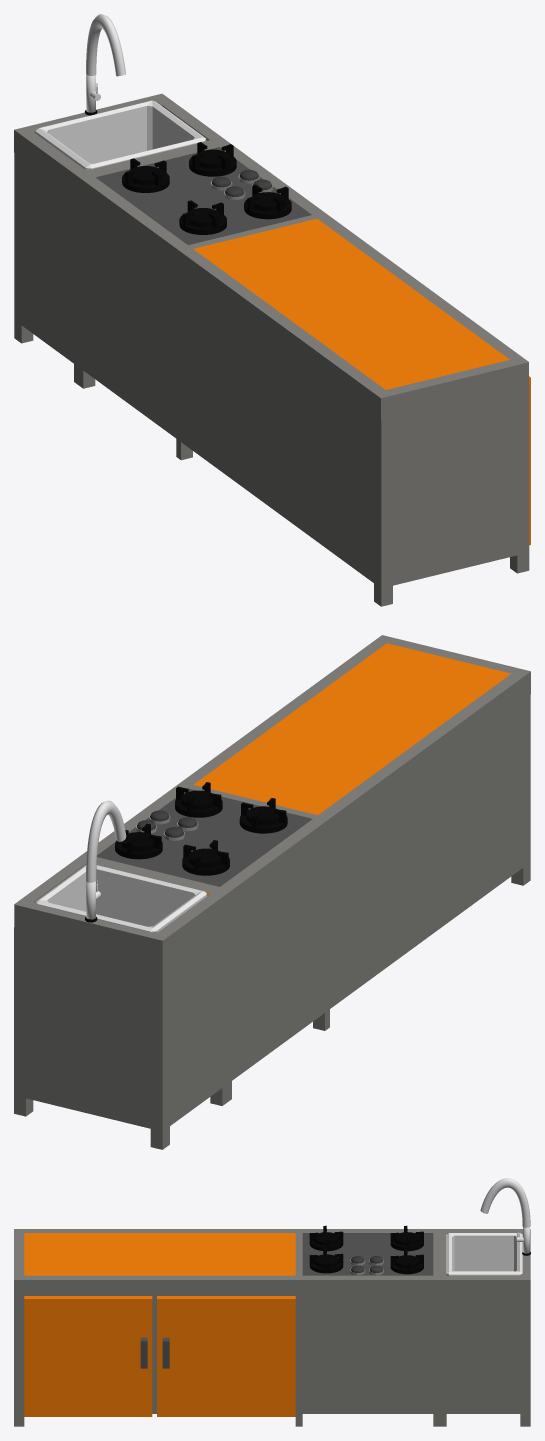
File: meja masak.fbx
3 renders of one model, top to bottom at view 1: azimuth 30°, elevation 25°; view 2: azimuth 150°, elevation 25°; view 3: azimuth 270°, elevation 25°, orthographic. The views are drawn at different scales.
Parts seen in each view (by area): view 1: gagang keran, wastafel, kompor 3, saluran air; view 2: gagang keran, wastafel, kompor 3, saluran air; view 3: gagang keran, wastafel, kompor 3, saluran air.
Boxes of the visible parts, x1,y1,x2,y2 form: gagang keran: [14, 74, 530, 606]; wastafel: [35, 100, 206, 170]; kompor 3: [122, 142, 291, 234]; saluran air: [86, 14, 126, 76]; gagang keran: [14, 635, 530, 1149]; wastafel: [35, 865, 206, 932]; kompor 3: [115, 782, 287, 875]; saluran air: [86, 800, 126, 882]; gagang keran: [14, 1227, 530, 1426]; wastafel: [446, 1233, 522, 1275]; kompor 3: [309, 1225, 423, 1274]; saluran air: [480, 1178, 530, 1227].
Bounding box in the file's own units: 394 × 709 × 1491.
